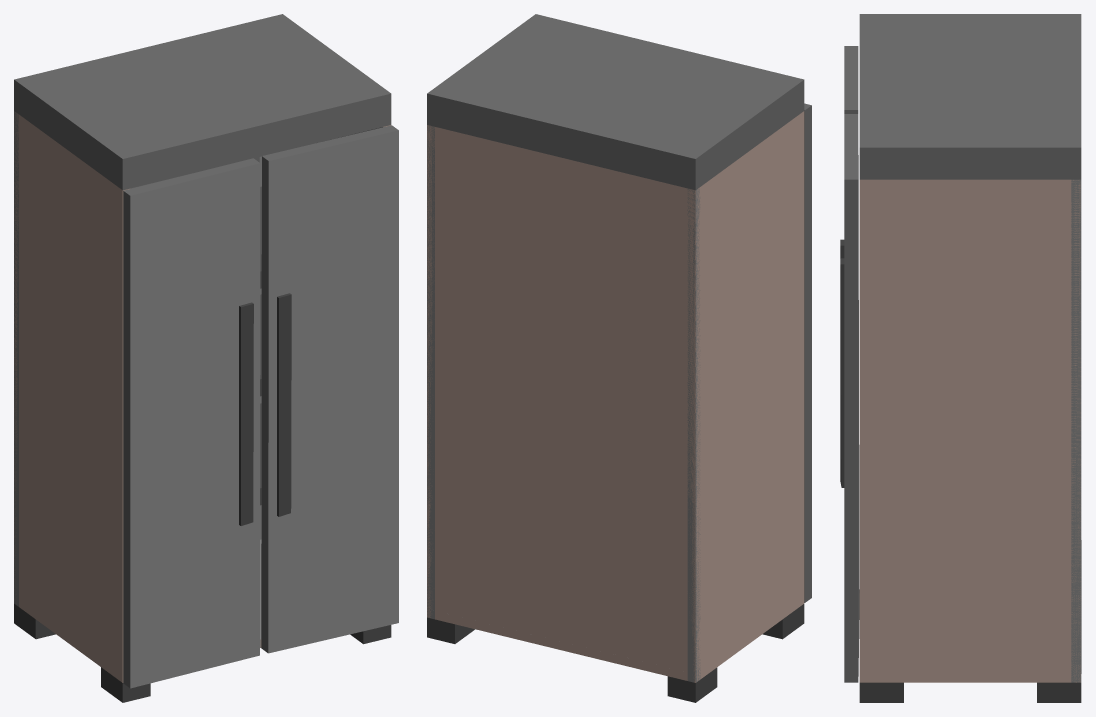
Rendered from Lv3Fridge.fbx.
3 views of the same model, side by side, from view 1: azimuth 30°, elevation 25°; view 2: azimuth 150°, elevation 25°; view 3: azimuth 270°, elevation 25° (orthographic). The views are drawn at different scales.
Visible parts, largest first — view 1: Lv3Fridge.001, LeftDoor, RightDoor; view 2: Lv3Fridge.001, RightDoor; view 3: Lv3Fridge.001, LeftDoor, RightDoor.
Boxes of the visible parts, x1,y1,x2,y2 form: Lv3Fridge.001: (14, 14, 391, 702); LeftDoor: (261, 125, 398, 653); RightDoor: (123, 158, 260, 688); Lv3Fridge.001: (427, 14, 804, 702); RightDoor: (804, 103, 811, 602); Lv3Fridge.001: (859, 14, 1081, 702); LeftDoor: (840, 114, 859, 682); RightDoor: (840, 46, 859, 592).
Bounding box in the file's own units: 78.11 × 151 × 59.45.
